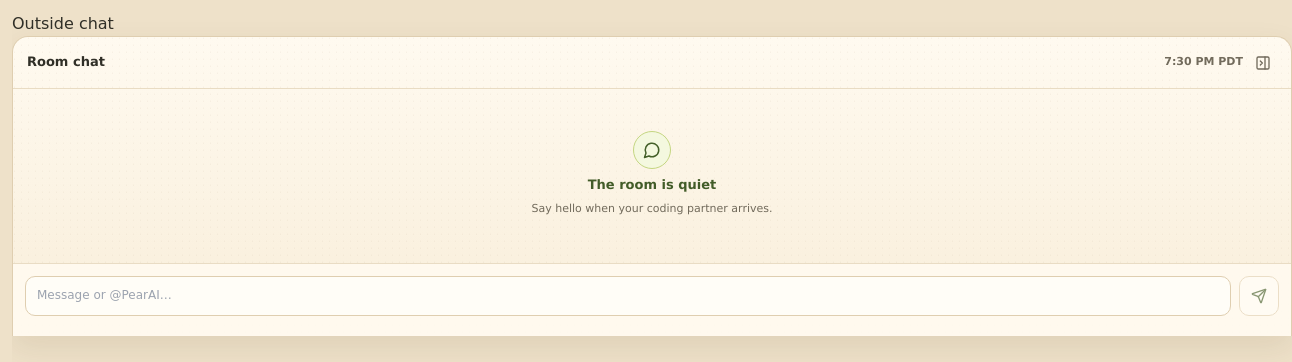
Test: ChatPanel mention menu › dismisses with Escape without clearing the message
In the dropdown named "Message room": x=628, y=296 [25, 276, 1231, 316], type "hello @al"
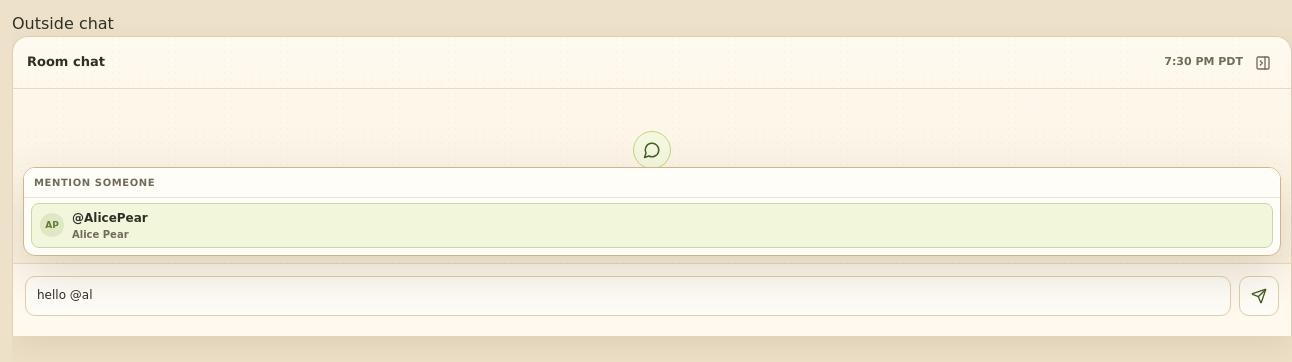
Press Escape in the dropdown named "Message room", box [25, 276, 1231, 316]
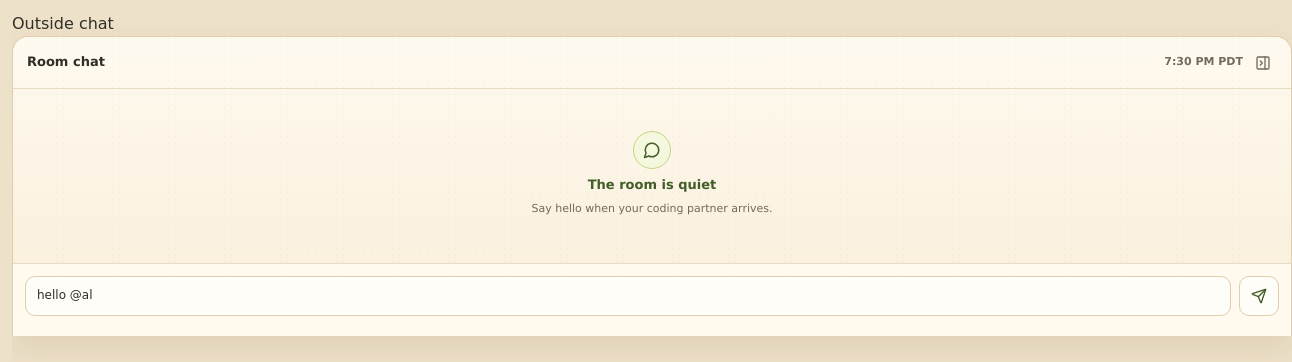
Result: the list is gone
